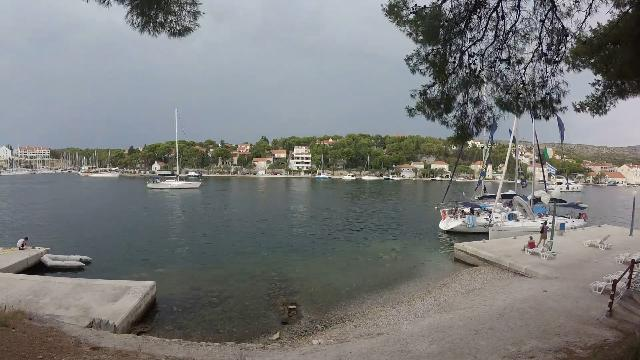Sailboat: (139, 170, 207, 192)
